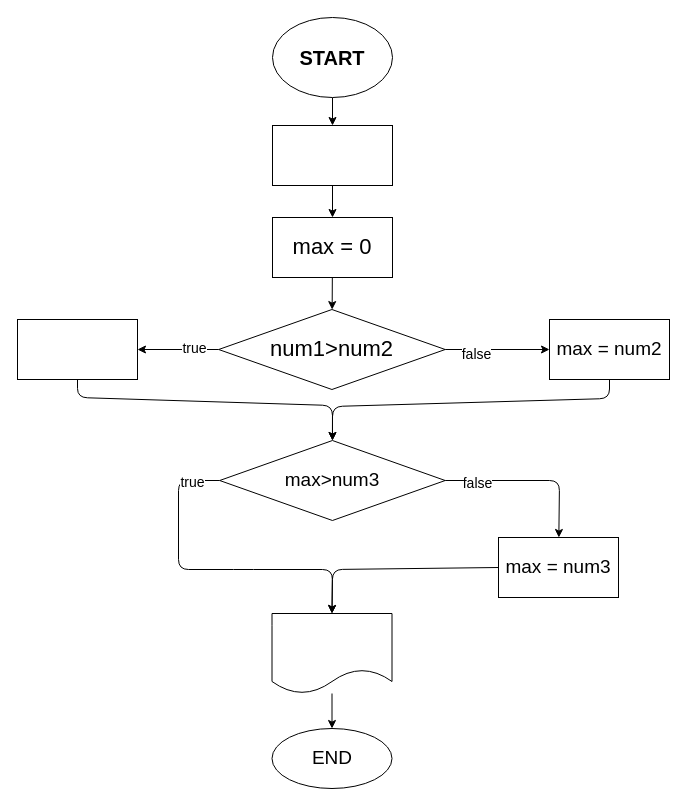
The diagram is 687 pixels wide and 806 high, and some of its shapes have lost their labels. The centre of each missing label's shape, as x and y in pixels:
max: point (331, 653)
max = num1: point (77, 349)
num1 num2 num3: point (332, 155)
